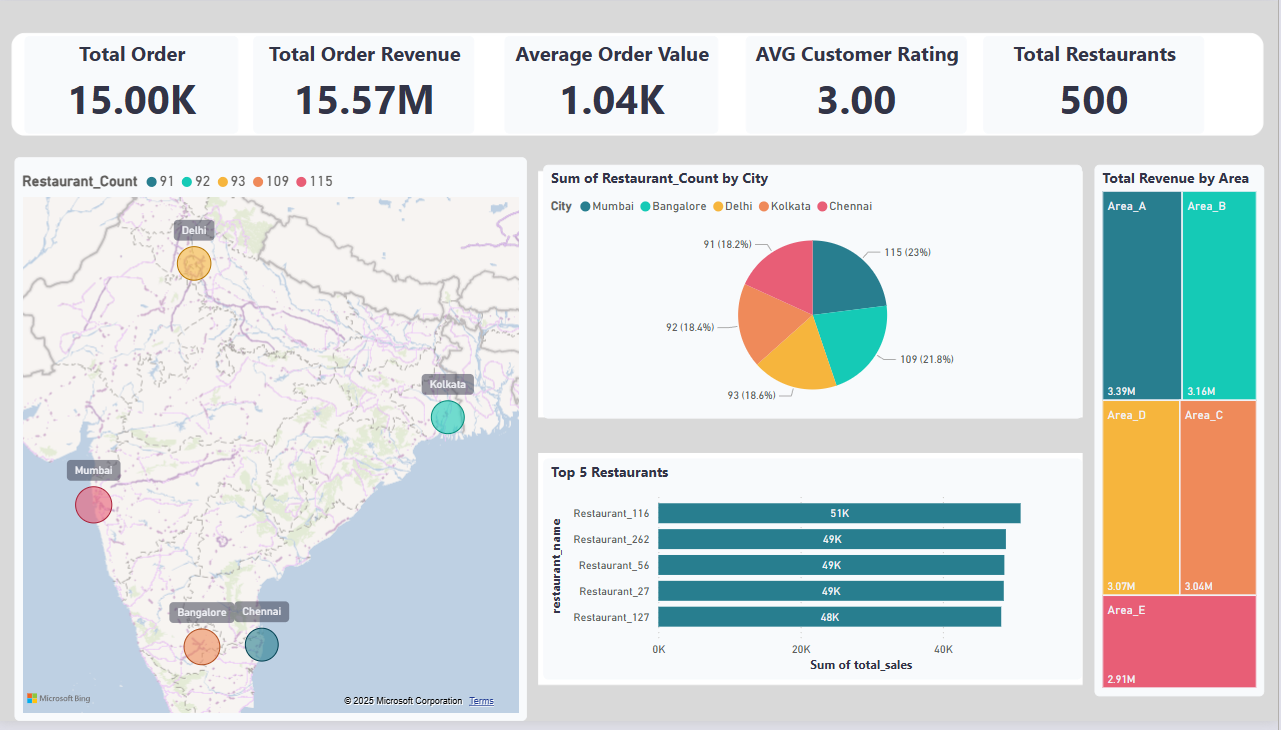

This screenshot's page, from the dashboard's own definition file:
{"tool":"powerbi","page":{"name":"Over View","canvas":[1280,720],"ordinal":0},"visuals":[{"type":"map","fields":{"Category":["Restaurant_count.City"],"Series":["Restaurant_count.Restaurant_Count"],"Size":["CountNonNull(Group_data.order_id)"]},"box":[17.5,156.1,512.1,563.3],"z":0},{"type":"pieChart","fields":{"Category":["Restaurant_count.City"],"Y":["Sum(Restaurant_count.Restaurant_Count)"]},"box":[545.8,163.6,538.3,253.6],"z":1000},{"type":"card","title":"Total Order Revenue","fields":{"Values":["Sum(Zomato_Orders.total_cost)"]},"box":[256.1,35,221.1,97.4],"z":2000},{"type":"barChart","title":"Top 5 Restaurants","fields":{"Category":["Top5_restaurant_bysales.restaurant_name"],"Y":["Sum(Top5_restaurant_bysales.total_sales)"]},"box":[545.8,457.1,538.3,221.1],"z":3000},{"type":"card","title":"Total Order ","fields":{"Values":["Zomato_Orders.Order_count"]},"box":[27.5,35,213.6,97.4],"z":4000},{"type":"treemap","title":"Total Revenue by Area","fields":{"Values":["Sum(Group_data.total_cost)"],"Group":["Group_data.area"]},"box":[1096.6,163.6,169.9,530.8],"z":5000},{"type":"card","title":"Average Order Value","fields":{"Values":["Avg(Group_data.total_cost)"]},"box":[507.1,35,213.6,97.4],"z":6000},{"type":"card","title":"AVG Customer Rating","fields":{"Values":["Avg(Group_data.customer_rating)"]},"box":[748.2,35,221.1,97.4],"z":7000},{"type":"card","title":"Total Restaurants","fields":{"Values":["Sum(Restaurant_count.Restaurant_Count)"]},"box":[985.5,35,221.1,97.4],"z":8000}]}

Visuals, with their boxes in screenshot pixels (x1, y1, x2, y2), scaled from the page's 1280x720 canvas onto the 1281x730 screenshot:
map - Restaurant_count.City x Restaurant_count.Restaurant_Count: {"x1": 18, "y1": 158, "x2": 530, "y2": 729}
pieChart - Restaurant_count.City x Sum(Restaurant_count.Restaurant_Count): {"x1": 546, "y1": 166, "x2": 1085, "y2": 423}
"Total Order Revenue" card: {"x1": 256, "y1": 35, "x2": 478, "y2": 134}
"Top 5 Restaurants" barChart: {"x1": 546, "y1": 463, "x2": 1085, "y2": 688}
"Total Order " card: {"x1": 28, "y1": 35, "x2": 241, "y2": 134}
"Total Revenue by Area" treemap: {"x1": 1097, "y1": 166, "x2": 1267, "y2": 704}
"Average Order Value" card: {"x1": 507, "y1": 35, "x2": 721, "y2": 134}
"AVG Customer Rating" card: {"x1": 749, "y1": 35, "x2": 970, "y2": 134}
"Total Restaurants" card: {"x1": 986, "y1": 35, "x2": 1208, "y2": 134}
